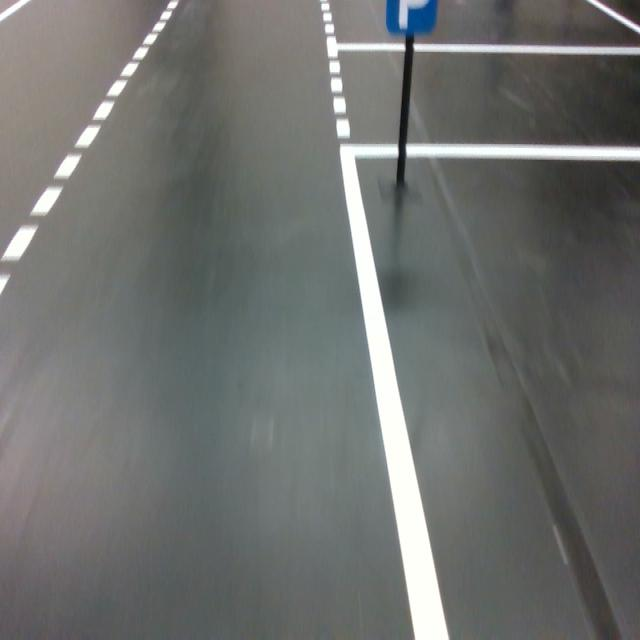parking-sign: (386, 0, 438, 35)
